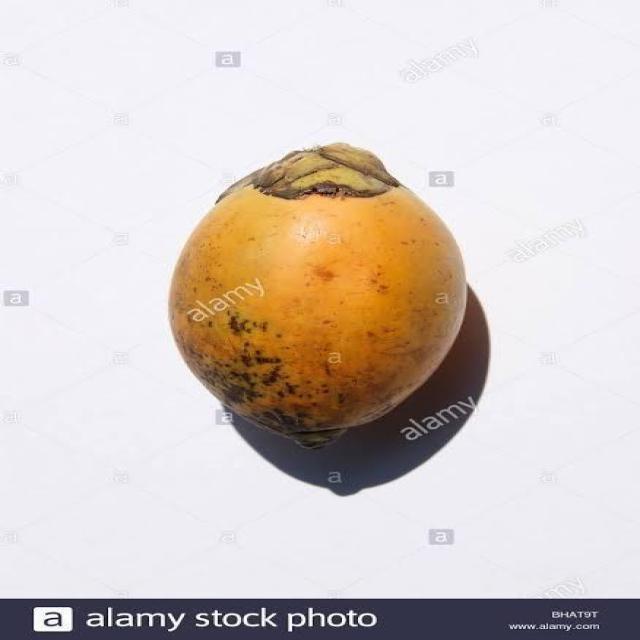good: (168, 144, 468, 451)
